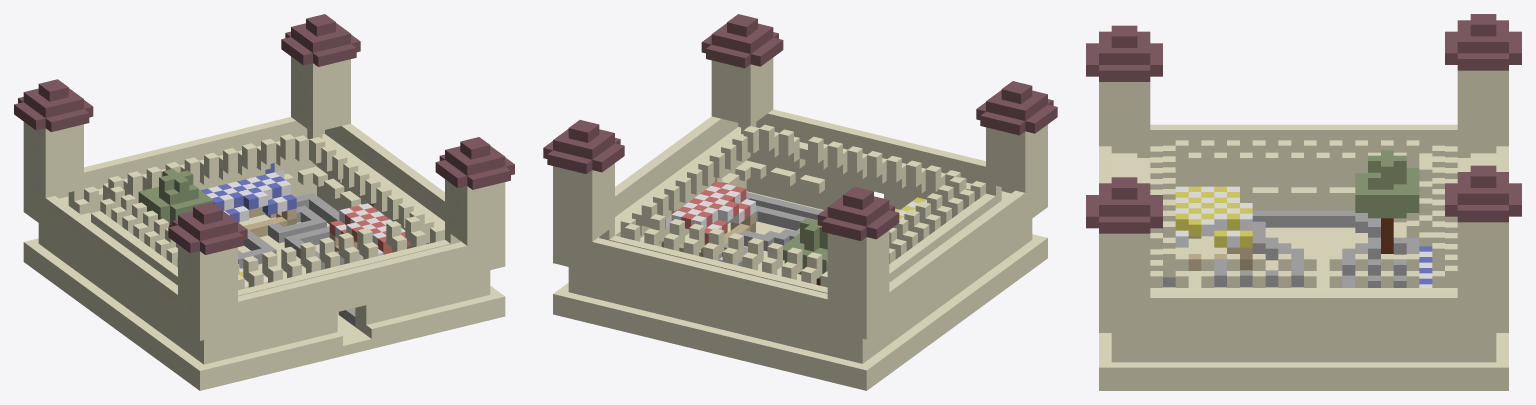
Rendered from pixel_artvoxel_art_castle.glb.
The picture shows the model from 3 angles, left to right: view 1: azimuth 30°, elevation 25°; view 2: azimuth 150°, elevation 25°; view 3: azimuth 270°, elevation 25°; orthographic projection. The views are drawn at different scales.
Parts seen in each view (by area): view 1: Object_10, Object_14, Object_11, Object_7, Object_13, Object_16, Object_2, Object_12, Object_15, Object_8; view 2: Object_10, Object_14, Object_11, Object_7, Object_13, Object_16, Object_15, Object_2, Object_8; view 3: Object_10, Object_11, Object_7, Object_14, Object_13, Object_2, Object_16, Object_17, Object_8, Object_3.
Part boxes in pixels (box(x1,y1,x2,y2)): Object_10: box(23, 56, 505, 390); Object_14: box(29, 71, 495, 318); Object_11: box(24, 134, 504, 370); Object_7: box(14, 14, 514, 254); Object_13: box(238, 193, 355, 326); Object_16: box(206, 170, 405, 286); Object_2: box(138, 168, 213, 226); Object_12: box(201, 163, 296, 222); Object_15: box(329, 203, 410, 256); Object_8: box(243, 206, 363, 260); Object_10: box(553, 58, 1047, 390); Object_14: box(563, 66, 1042, 316); Object_11: box(553, 124, 1047, 370); Object_7: box(543, 14, 1057, 240); Object_13: box(722, 192, 822, 266); Object_16: box(665, 178, 926, 229); Object_15: box(671, 177, 750, 243); Object_2: box(783, 218, 827, 279); Object_8: box(661, 212, 755, 258); Object_10: box(1099, 70, 1508, 390); Object_11: box(1099, 140, 1508, 367); Object_7: box(1086, 14, 1521, 233); Object_14: box(1099, 88, 1508, 309); Object_13: box(1163, 210, 1419, 287); Object_2: box(1355, 150, 1419, 218); Object_16: box(1175, 186, 1432, 287); Object_17: box(1175, 186, 1252, 247); Object_8: box(1188, 236, 1252, 270); Object_3: box(1381, 218, 1393, 253).
Bounding box in the file's own units: 13.22 × 7 × 13.22.
